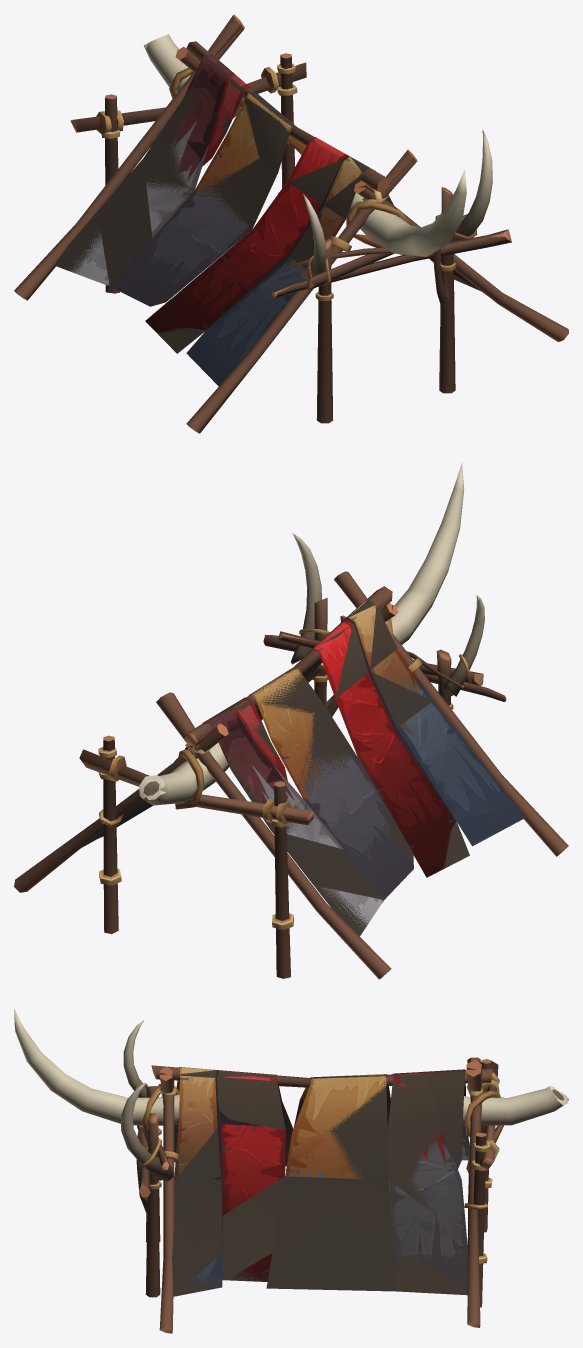
Rendered from Tent_1H.fbx.
3 renders of one model, top to bottom at view 1: azimuth 30°, elevation 25°; view 2: azimuth 150°, elevation 25°; view 3: azimuth 270°, elevation 25°, orthographic. The views are drawn at different scales.
Parts seen in each view (by area): view 1: Tent_1H; view 2: Tent_1H; view 3: Tent_1H.
Boxes of the visible parts, box(x1,y1,x2,y2) form: Tent_1H: box(14, 14, 568, 433); Tent_1H: box(14, 462, 568, 979); Tent_1H: box(14, 1009, 568, 1333).
Bounding box in the file's own units: 798 × 590 × 1140.
